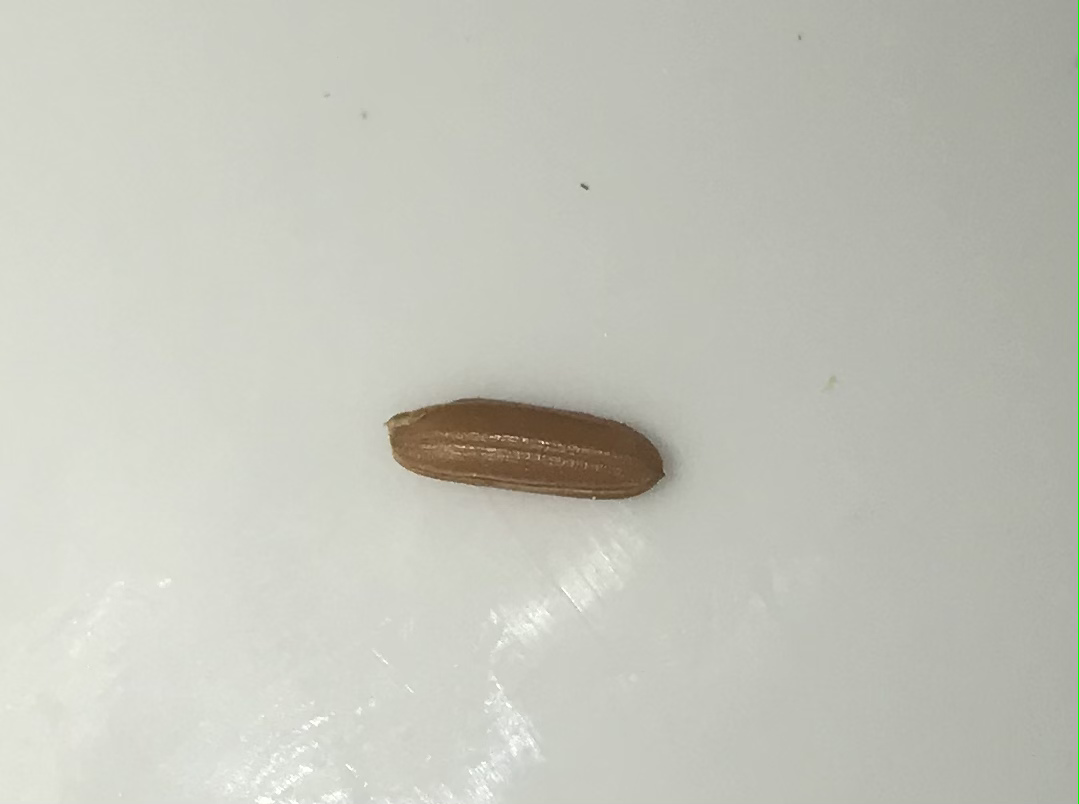Gao Lut Dien Bien: (382, 388, 670, 509)
